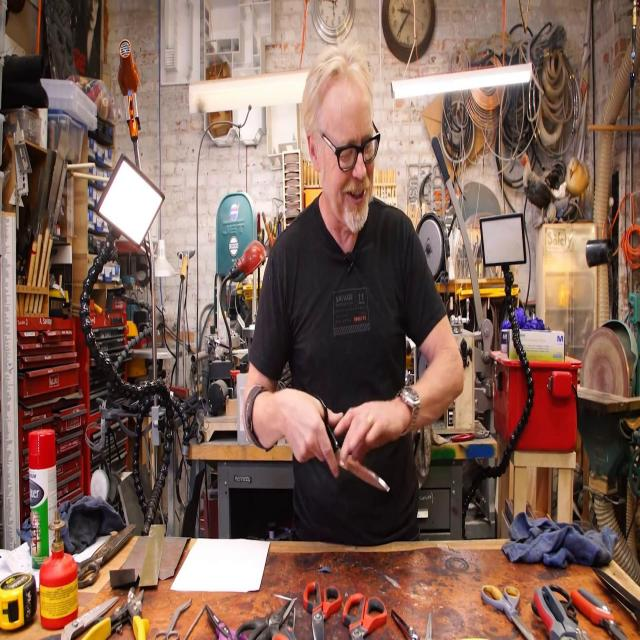scissor: (309, 401, 388, 491), (75, 523, 136, 589), (481, 585, 534, 640), (236, 598, 294, 640), (303, 581, 342, 640), (342, 593, 388, 640), (155, 597, 192, 640), (205, 605, 248, 640), (272, 604, 297, 640)
